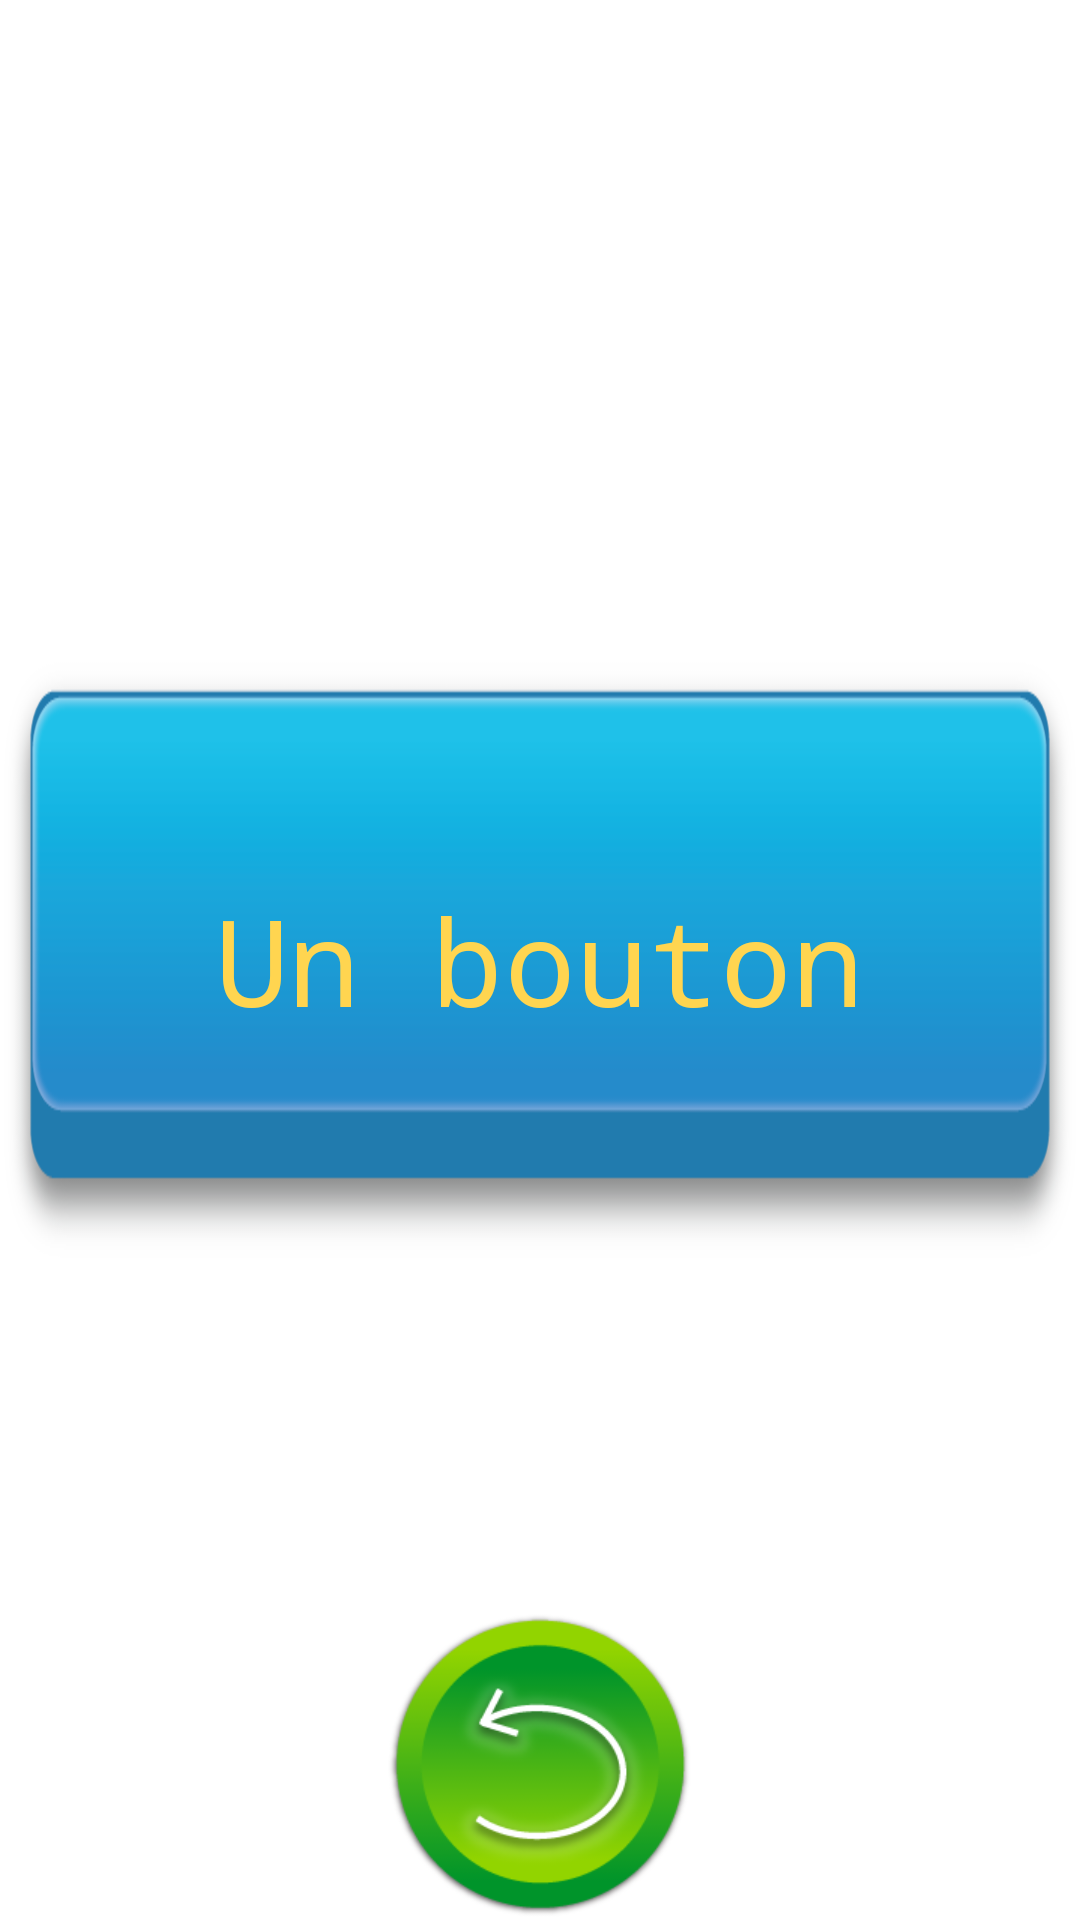

Icon click points for this 1080*1920 phone screenshot, format point (x, y):
back: point (539, 1765)
